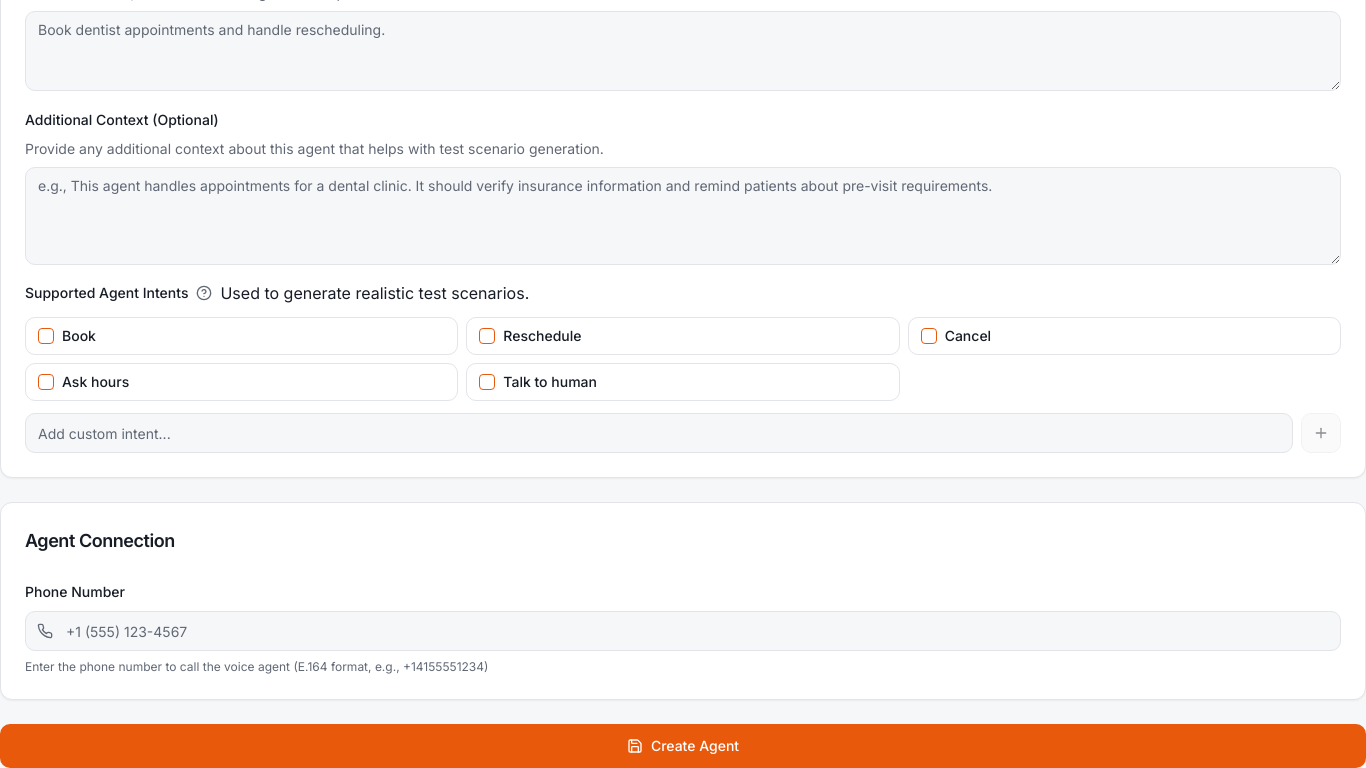
Test: AgentConfigForm › validation › clears error when user provides valid input
(page scrolled)
# Trigger validation error
Click the button "Create Agent" at {"x": 683, "y": 746}, box [0, 724, 1365, 767]
(page scrolled)
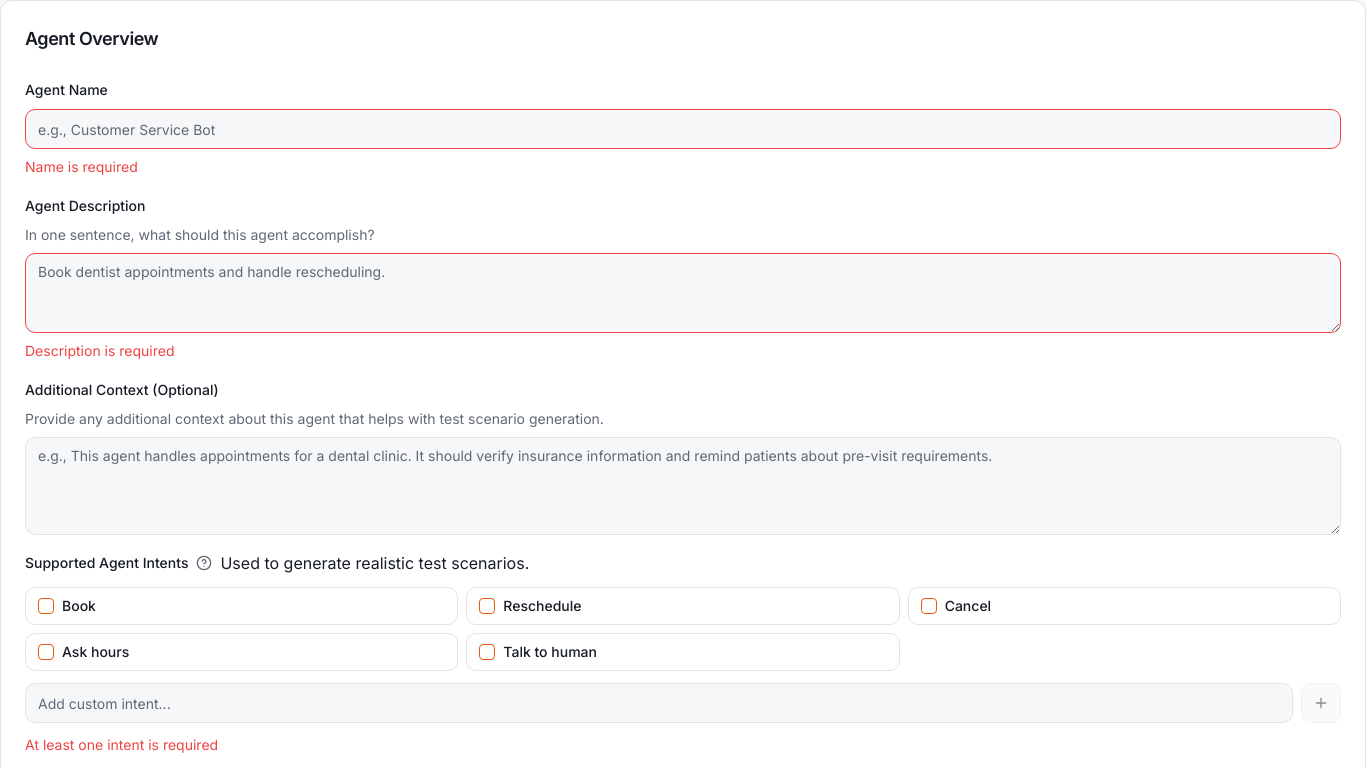
Expected: the text "Name is required" is shown, [25, 158, 138, 175]
# Fix the error
Type "Test" into the field labelled "Agent Name" at {"x": 683, "y": 129}, box [25, 109, 1341, 149]
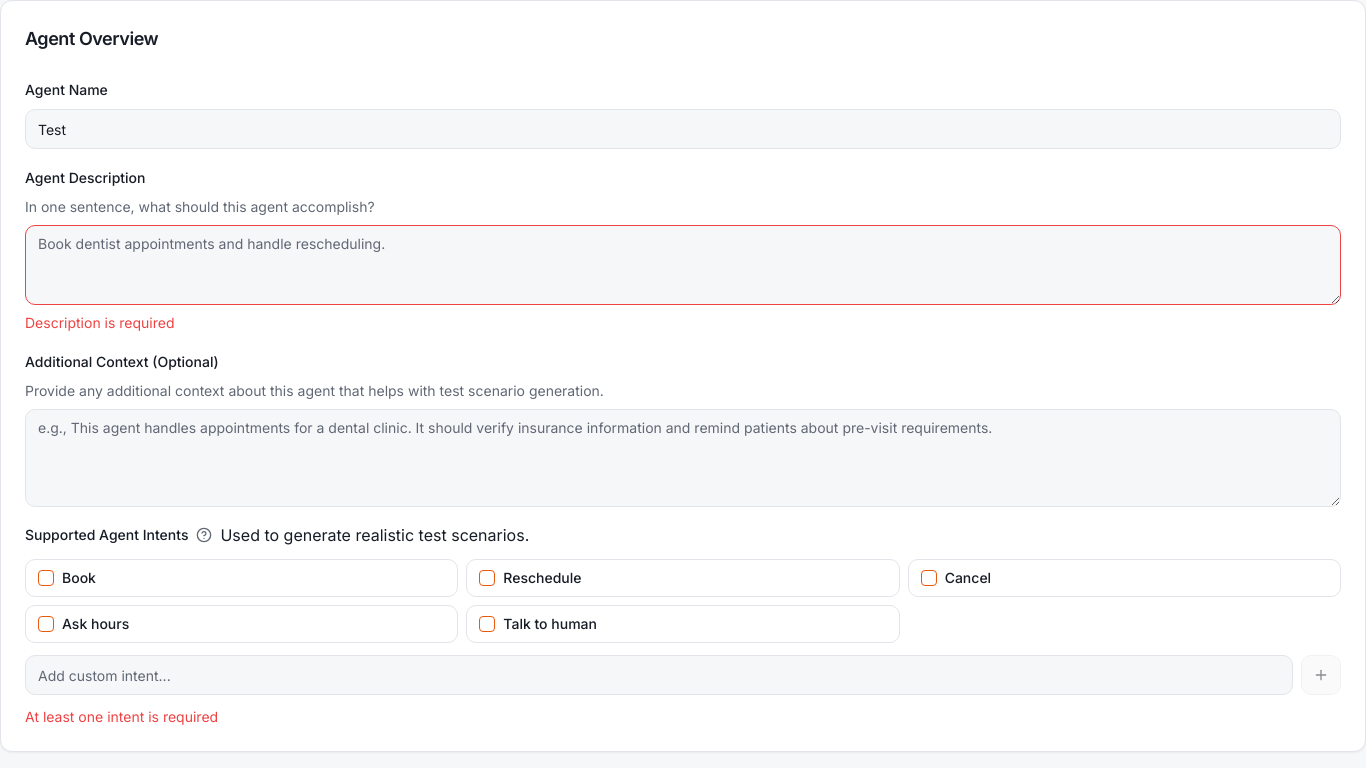
Expected: the text "Name is required" is gone
